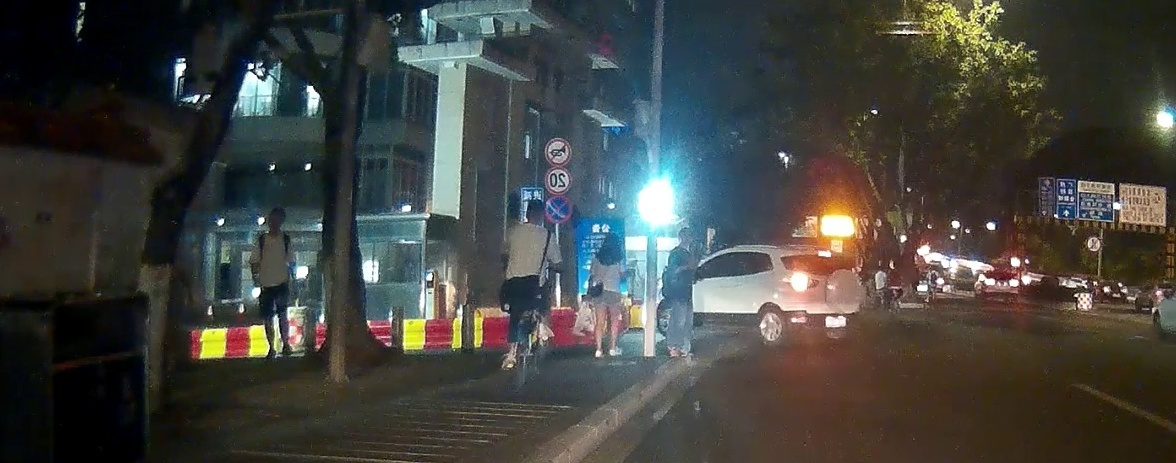L_light: (786, 277, 820, 291)
R_light: (849, 280, 858, 290)
T_light: (817, 250, 832, 257)
night-left: (776, 246, 862, 344)
